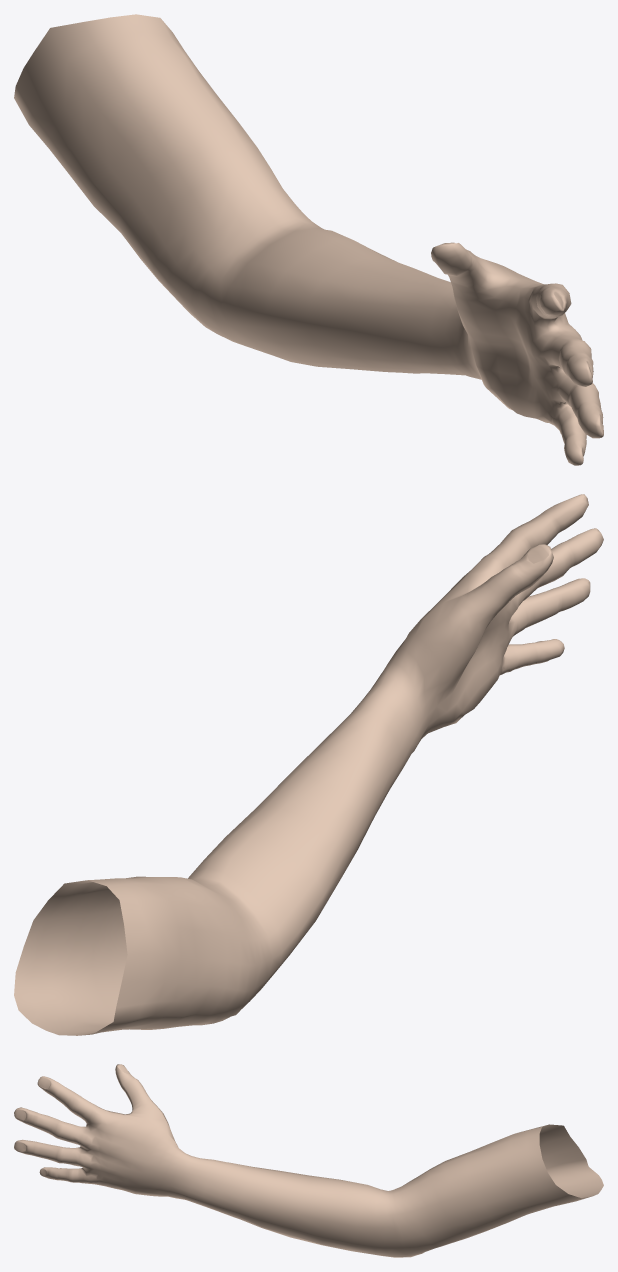
Rendered from KY_M_Zombie_Arms.fbx.
3 renders of one model, top to bottom at view 1: azimuth 30°, elevation 25°; view 2: azimuth 150°, elevation 25°; view 3: azimuth 270°, elevation 25°, orthographic. The views are drawn at different scales.
Parts seen in each view (by area): view 1: polySurface2; view 2: polySurface2; view 3: polySurface2.
Part boxes in pixels (<box>): polySurface2: <box>14,14,603,465</box>; polySurface2: <box>14,494,603,1035</box>; polySurface2: <box>14,1064,603,1257</box>.
Bounding box in the file's own units: 0.1314 × 0.252 × 0.8014.
